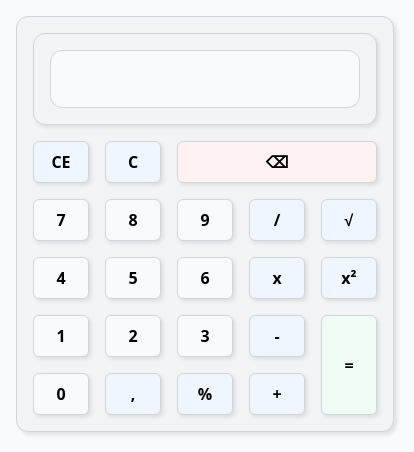
test_basic_operations › Must add two numbers and check the result.
This screenshot has width=414, height=452.
Click the button with test id "button-5": x=133, y=278 x1=105 y1=257 x2=161 y2=299
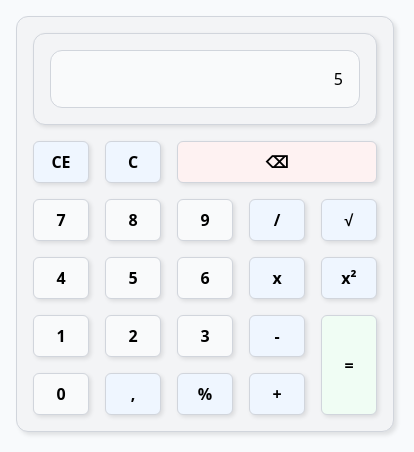
Click the button with test id "button-+": x=277, y=394 x1=249 y1=373 x2=305 y2=415
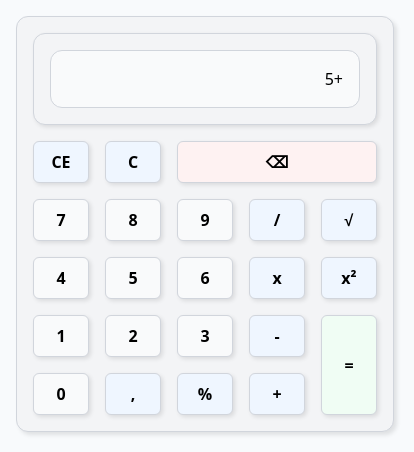
Click the button with test id "button-1": x=61, y=336 x1=33 y1=315 x2=89 y2=357
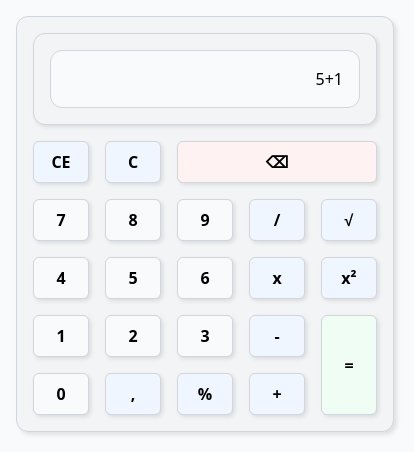
Click the button with test id "button-0": x=61, y=394 x1=33 y1=373 x2=89 y2=415
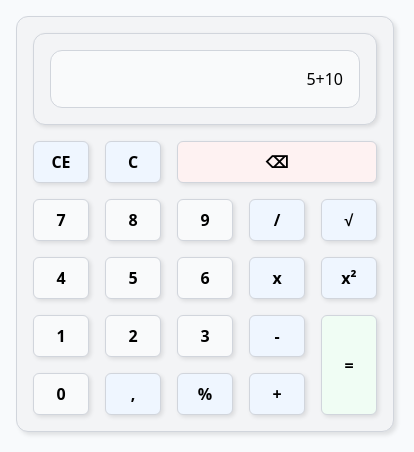
Click the button with test id "button-=": x=349, y=365 x1=321 y1=315 x2=377 y2=415
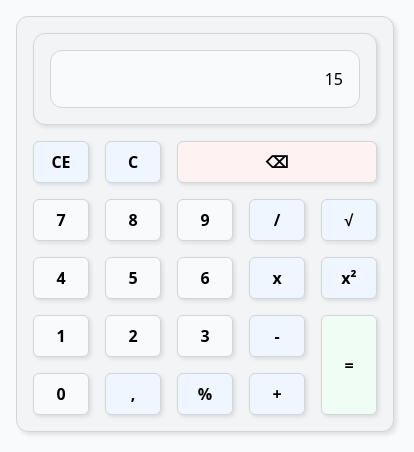
Check: the text "15" is shown, box x1=325 y1=68 x2=343 y2=90
